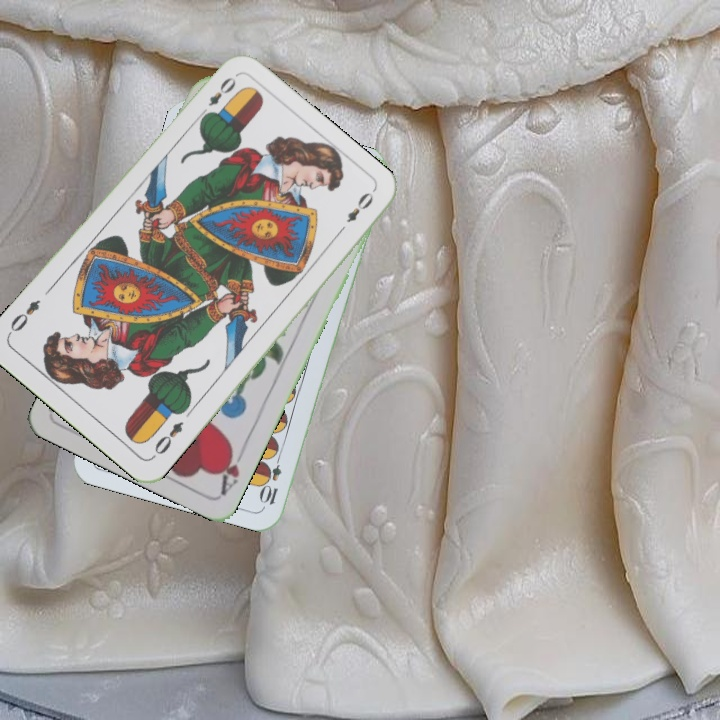E10: (258, 448, 285, 507)
EO: (196, 72, 239, 121), (150, 417, 186, 457)
HA: (214, 440, 249, 498)
